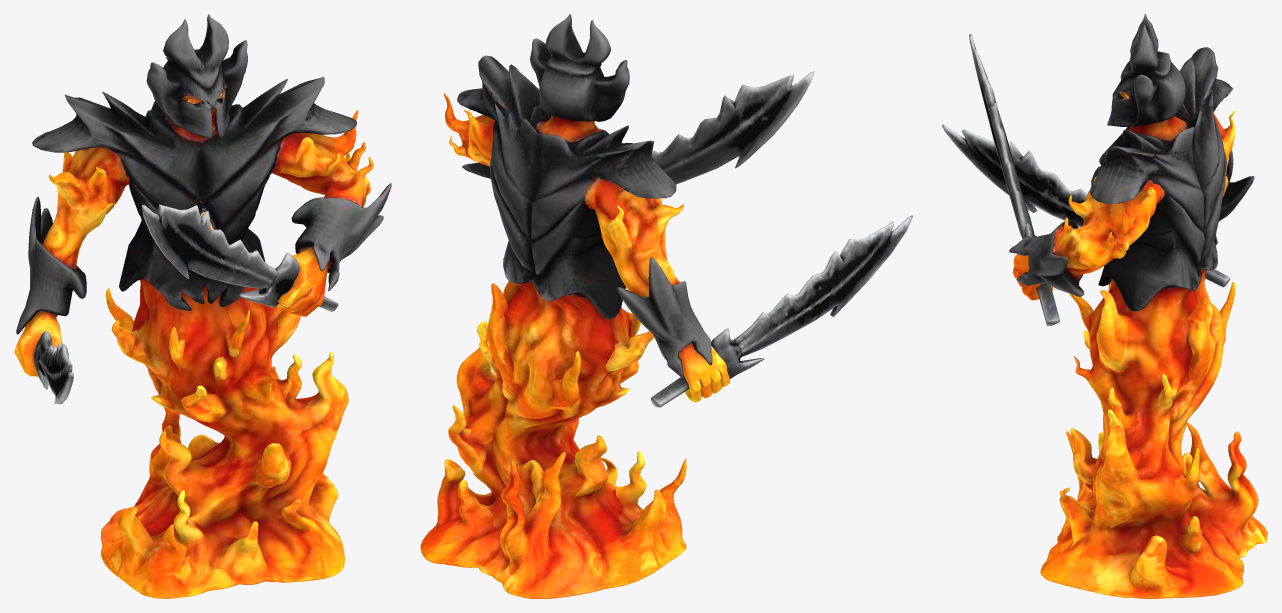
The model's file is MZ4250 - Fire Elemental Myrmidon.glb.
3 views of the same model, side by side, from view 1: azimuth 30°, elevation 25°; view 2: azimuth 150°, elevation 25°; view 3: azimuth 270°, elevation 25° (orthographic). The views are drawn at different scales.
Parts seen in each view (by area): view 1: Hand holding something LEFT HAND.001; view 2: Hand holding something LEFT HAND.001; view 3: Hand holding something LEFT HAND.001.
Part boxes in pixels (<box>): Hand holding something LEFT HAND.001: <box>14,14,391,598</box>; Hand holding something LEFT HAND.001: <box>420,14,913,598</box>; Hand holding something LEFT HAND.001: <box>942,14,1267,598</box>.
Bounding box in the file's own units: 0.9323 × 1.25 × 0.7129.
1 material, 1 textured.
